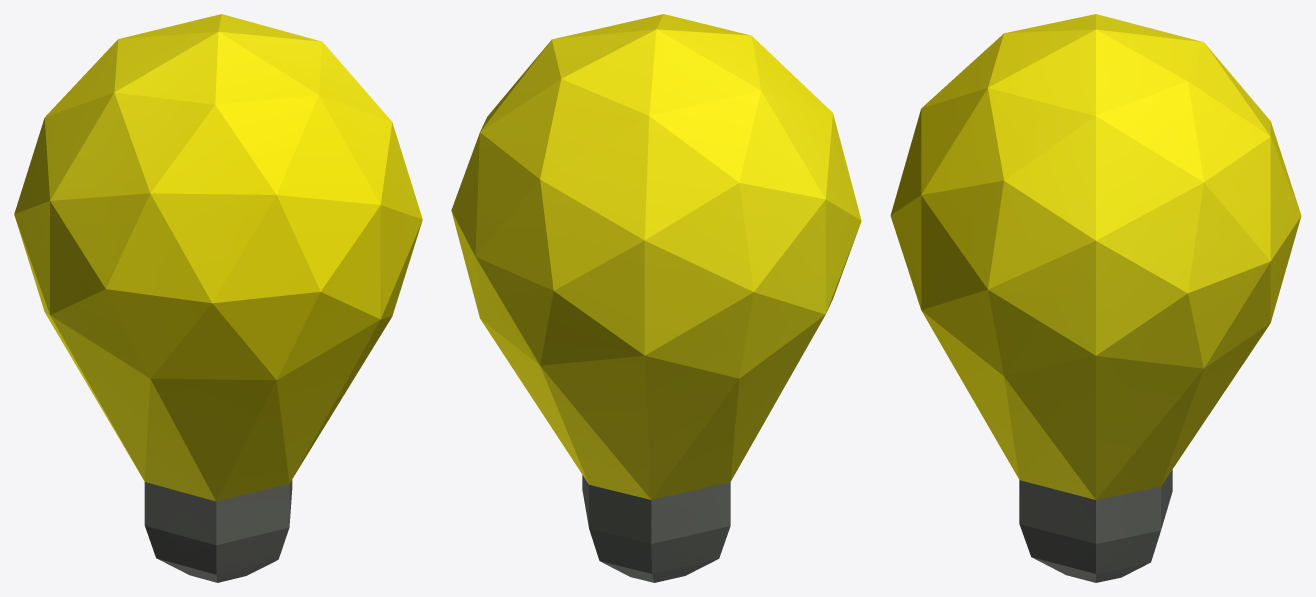
Rendered from LightBulb1.fbx.
3 views of the same model, side by side, from view 1: azimuth 30°, elevation 25°; view 2: azimuth 150°, elevation 25°; view 3: azimuth 270°, elevation 25° (orthographic).
Parts seen in each view (by area): view 1: Icosphere; view 2: Icosphere; view 3: Icosphere.
Part boxes in pixels (bbox=[...]): Icosphere: bbox=[14, 14, 422, 582]; Icosphere: bbox=[451, 14, 861, 582]; Icosphere: bbox=[890, 14, 1301, 582].
Bounding box in the file's own units: 190 × 291 × 200.
